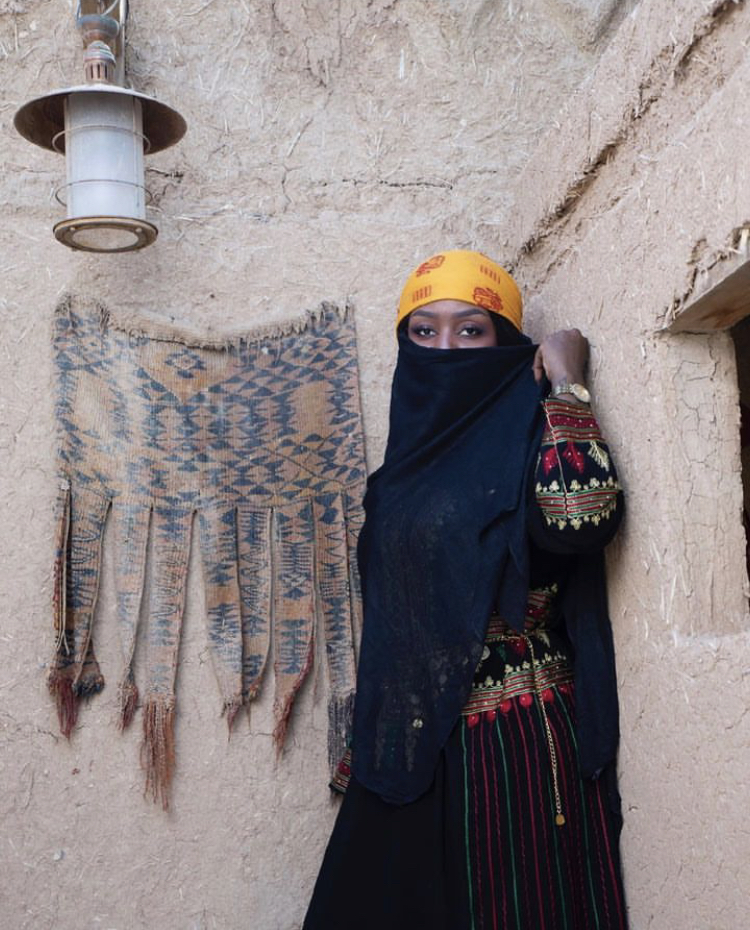Saudi_Founding_Day: (294, 243, 636, 930)
